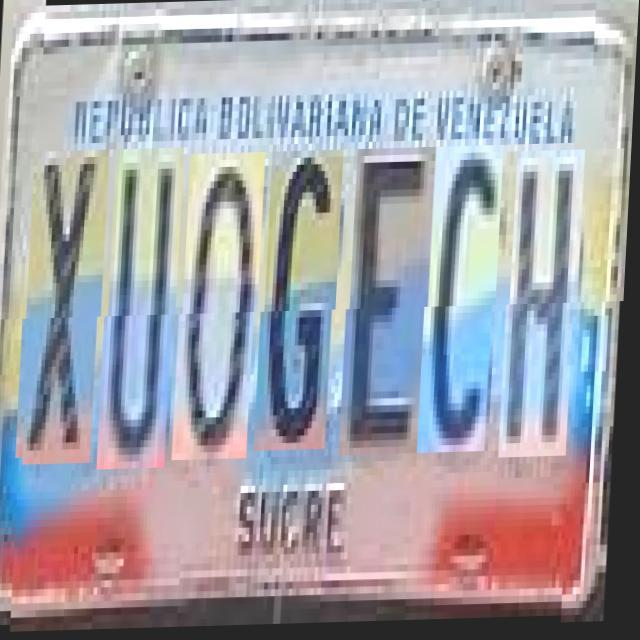C: (425, 148, 505, 456)
E: (348, 150, 438, 458)
G: (262, 152, 346, 452)
H: (507, 153, 587, 461)
O: (180, 154, 267, 462)
U: (104, 148, 186, 470)
X: (24, 150, 111, 465)
